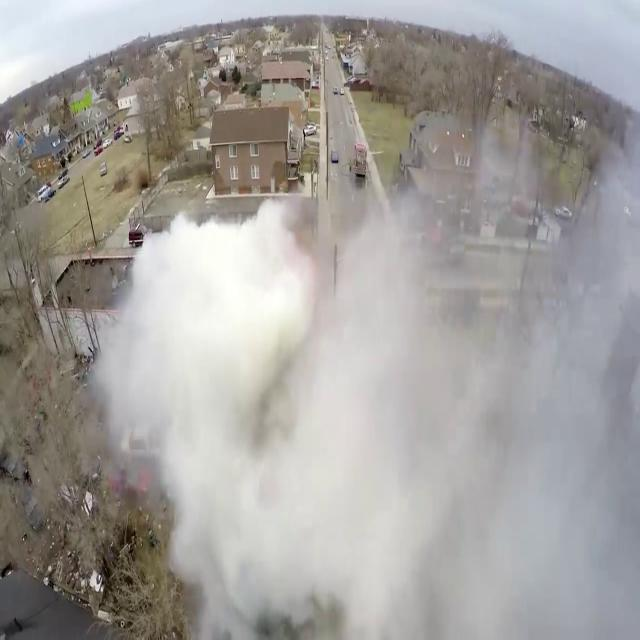Smoke: (93, 163, 639, 640)
